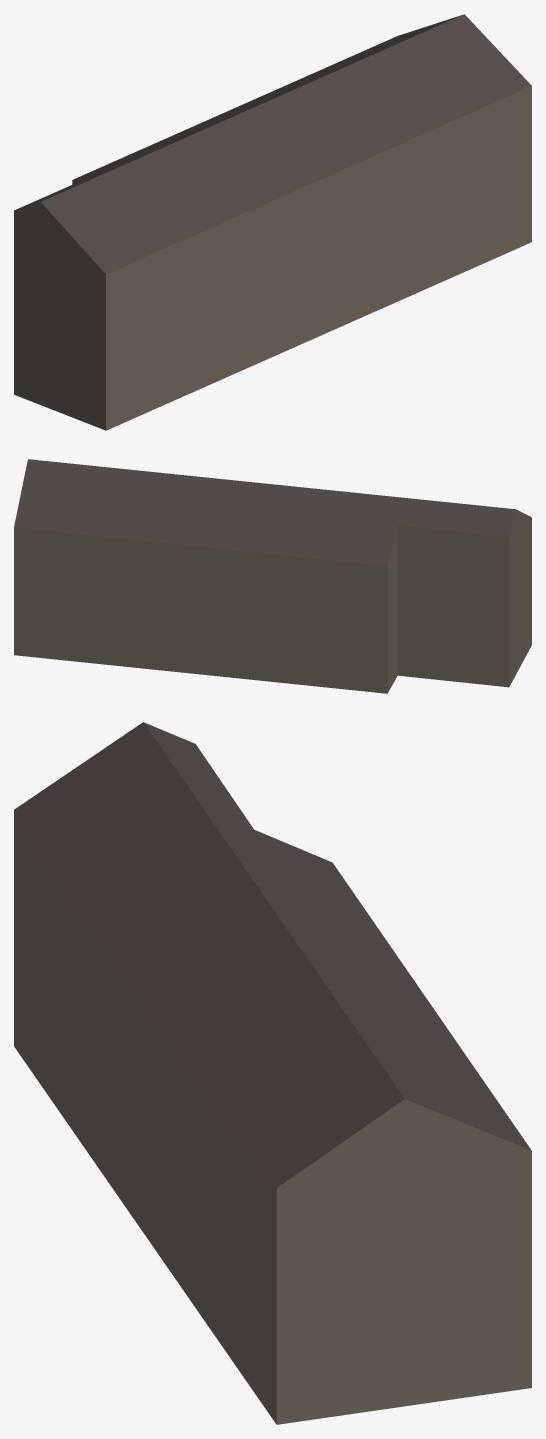
The picture shows the model from 3 angles, top to bottom: view 1: azimuth 30°, elevation 25°; view 2: azimuth 150°, elevation 25°; view 3: azimuth 270°, elevation 25°; orthographic projection. The views are drawn at different scales.
Visible parts, largest first — view 1: HP-w1196401637; view 2: HP-w1196401637; view 3: HP-w1196401637.
Part boxes in pixels (x1,y1,x2,y2): HP-w1196401637: [14, 14, 531, 430]; HP-w1196401637: [14, 459, 531, 693]; HP-w1196401637: [14, 722, 531, 1424].
Bounding box in the file's own units: 32.83 × 11.69 × 17.86.
